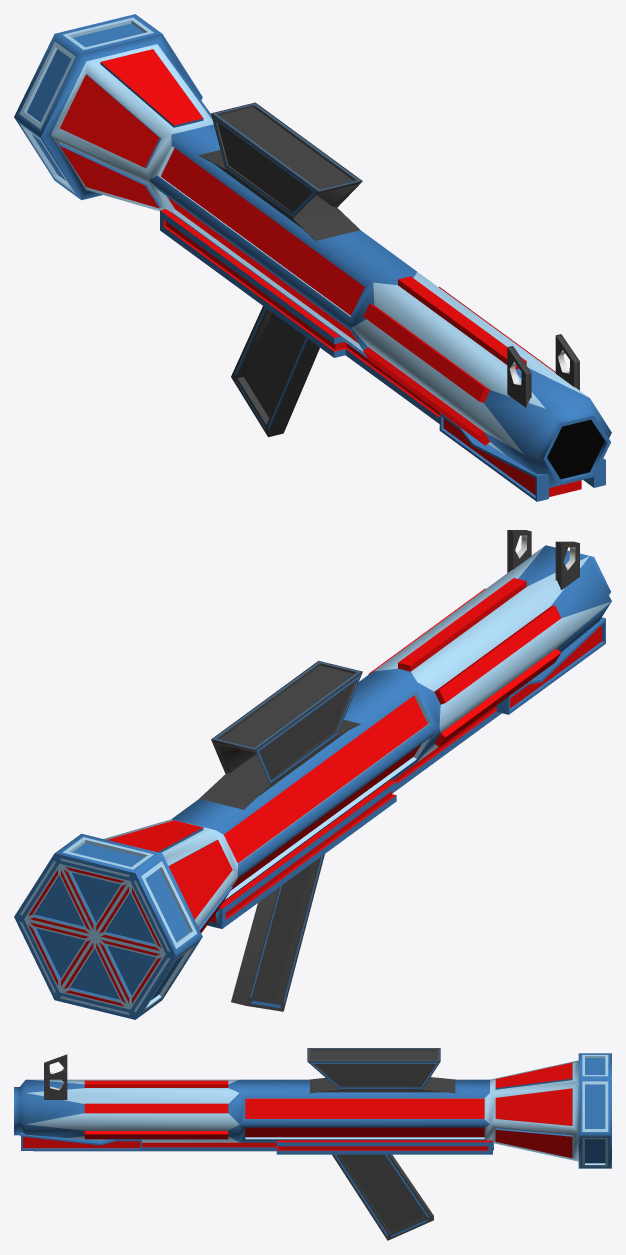
File: Blaster.fbx
3 renders of one model, top to bottom at view 1: azimuth 30°, elevation 25°; view 2: azimuth 150°, elevation 25°; view 3: azimuth 270°, elevation 25°, orthographic. The views are drawn at different scales.
Parts seen in each view (by area): view 1: Cylindre, Cube_2_2, Cube, Cube_1, Cube_2, Cube_2_3; view 2: Cylindre, Cube_2_2, Cube, Cube_1, Cube_2, Cube_2_3; view 3: Cylindre, Cube_2_2, Cube, Cube_1, Cube_2, Cube_2_3.
Part boxes in pixels (box(x1,y1,x2,y2)): Cylindre: box(14, 14, 611, 487); Cube_2_2: box(198, 102, 362, 241); Cube: box(231, 306, 319, 437); Cube_1: box(160, 209, 581, 496); Cube_2: box(439, 413, 605, 501); Cube_2_3: box(507, 334, 579, 407); Cylindre: box(14, 545, 611, 1019); Cube_2_2: box(199, 660, 362, 809); Cube: box(231, 854, 324, 1011); Cube_1: box(207, 705, 501, 928); Cube_2: box(496, 617, 605, 714); Cube_2_3: box(507, 530, 579, 589); Cylindre: box(14, 1053, 611, 1168); Cube_2_2: box(307, 1048, 457, 1093); Cube: box(332, 1154, 433, 1240); Cube_1: box(33, 1140, 493, 1154); Cube_2: box(21, 1132, 141, 1150); Cube_2_3: box(44, 1054, 67, 1099).
Bounding box in the file's own units: 183 × 321 × 946.
